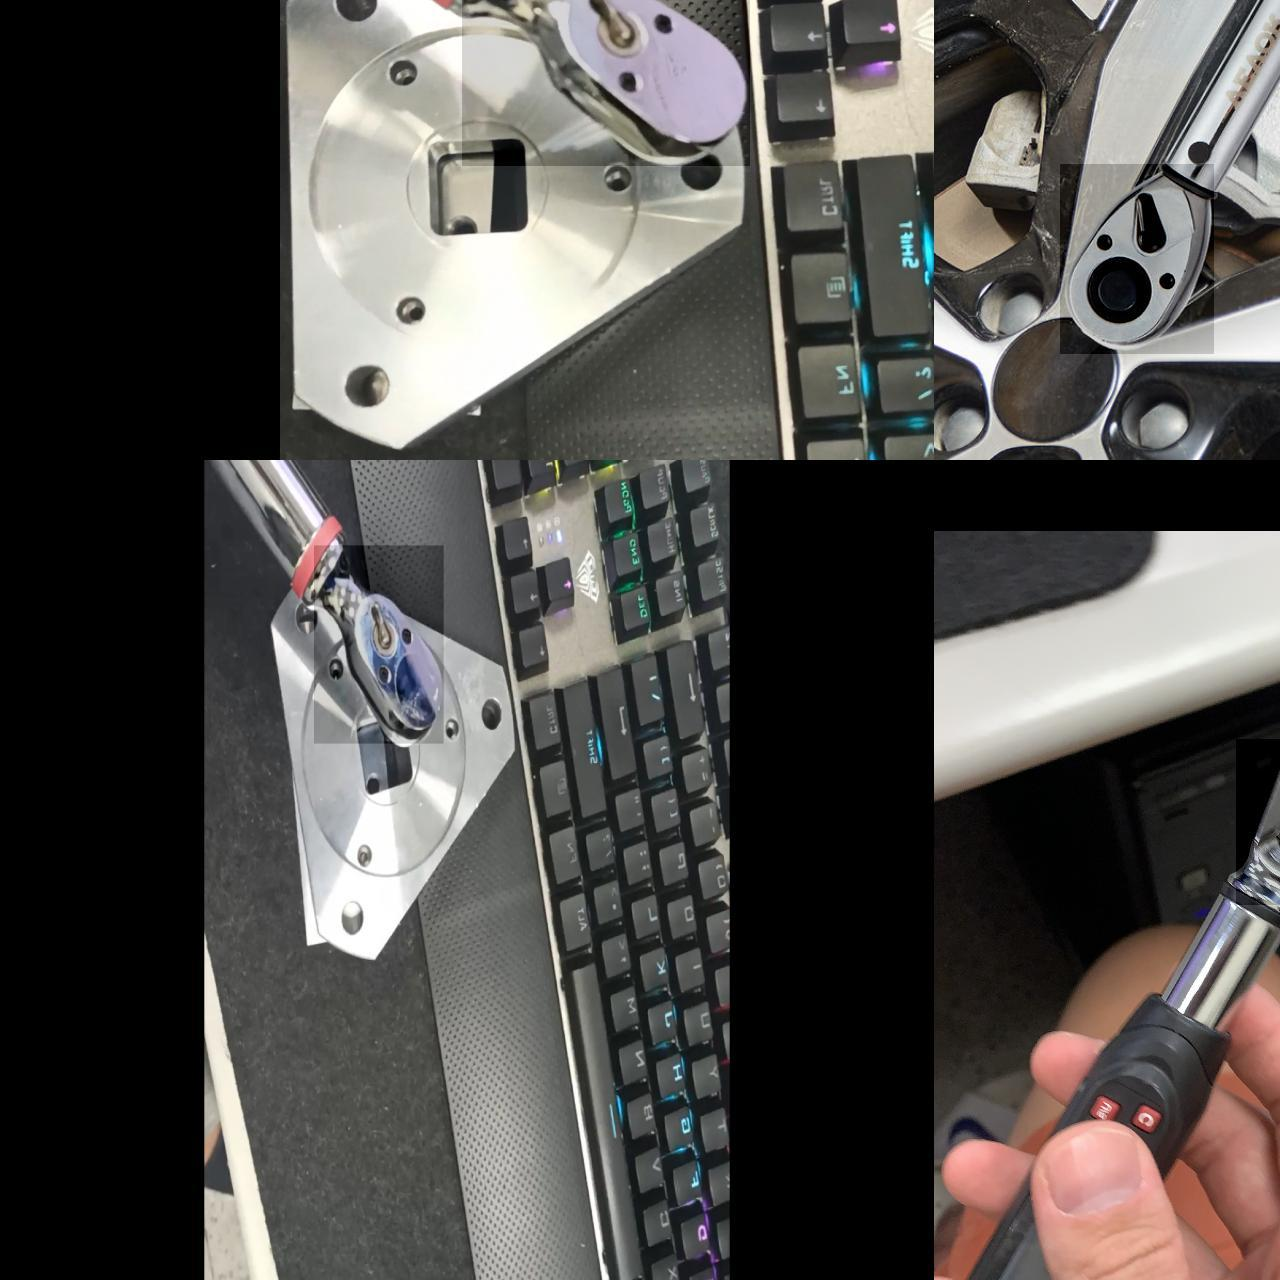Tool: (461, 4, 753, 165), (1064, 168, 1213, 355), (311, 545, 438, 741), (1238, 737, 1280, 907)
hole: (339, 352, 394, 415), (672, 144, 733, 200), (328, 0, 383, 29), (336, 899, 374, 937), (397, 293, 437, 327), (602, 164, 638, 200), (482, 689, 508, 738), (319, 646, 346, 687), (390, 59, 418, 93), (435, 713, 463, 743), (349, 842, 376, 873), (295, 601, 319, 627)
